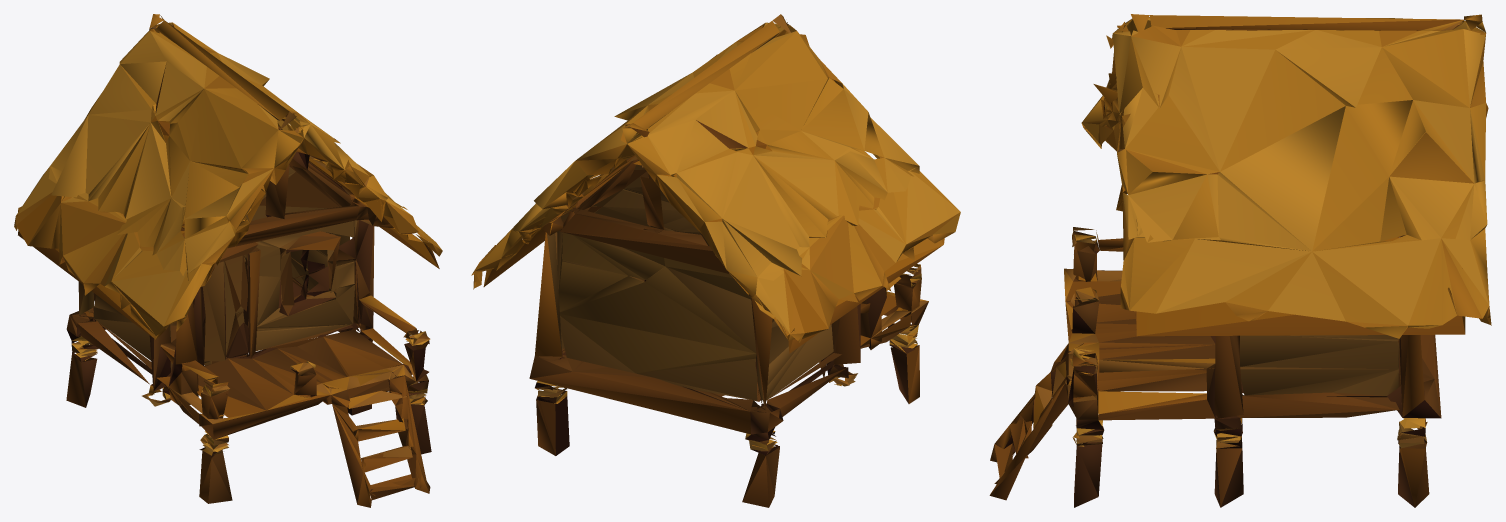
Rendered from hut.glb.
3 renders of one model, left to right at view 1: azimuth 30°, elevation 25°; view 2: azimuth 150°, elevation 25°; view 3: azimuth 270°, elevation 25°, orthographic. The views are drawn at different scales.
Parts seen in each view (by area): view 1: hut; view 2: hut; view 3: hut.
Part boxes in pixels (x1,y1,x2,y2): hut: (14,14,442,507); hut: (471,14,960,507); hut: (989,14,1491,507).
Bounding box in the file's own units: 5.14 × 5.51 × 5.75.
